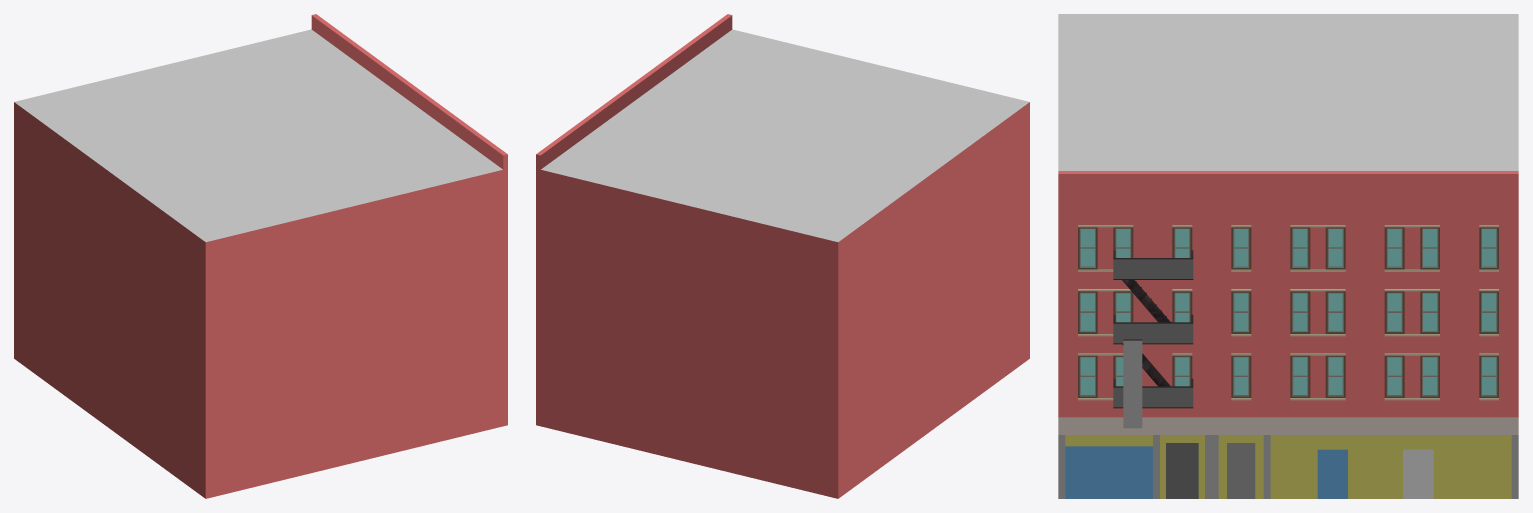
File: bldg  f.fbx
3 views of the same model, side by side, from view 1: azimuth 30°, elevation 25°; view 2: azimuth 150°, elevation 25°; view 3: azimuth 270°, elevation 25° (orthographic). The views are drawn at different scales.
Visible parts, largest first — view 1: window.004; view 2: window.004; view 3: window.004.
Part boxes in pixels (left/top/right/bottom): window.004: left=14, top=14, right=507, bottom=498; window.004: left=536, top=14, right=1029, bottom=498; window.004: left=1058, top=14, right=1518, bottom=498.
Size of the model in its own units: 1878 by 1520 by 1950.
